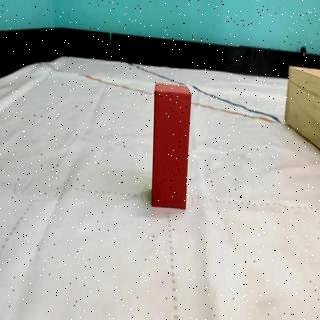redbox: (152, 83, 192, 210)
